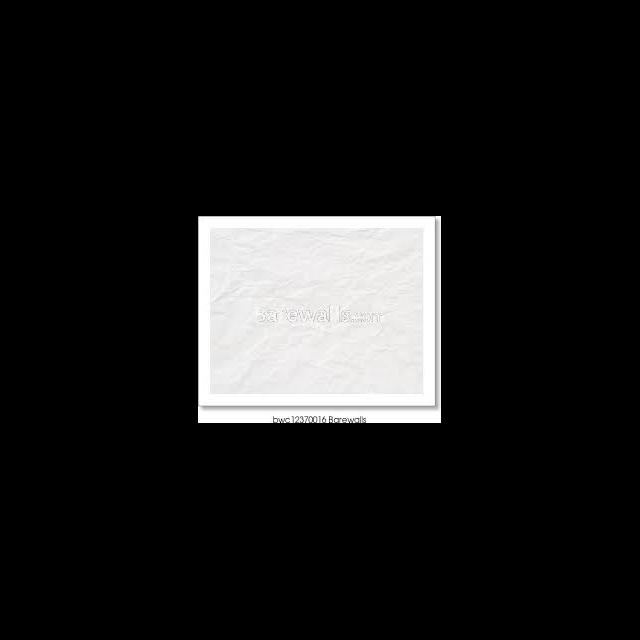paper: (210, 227, 423, 396)
